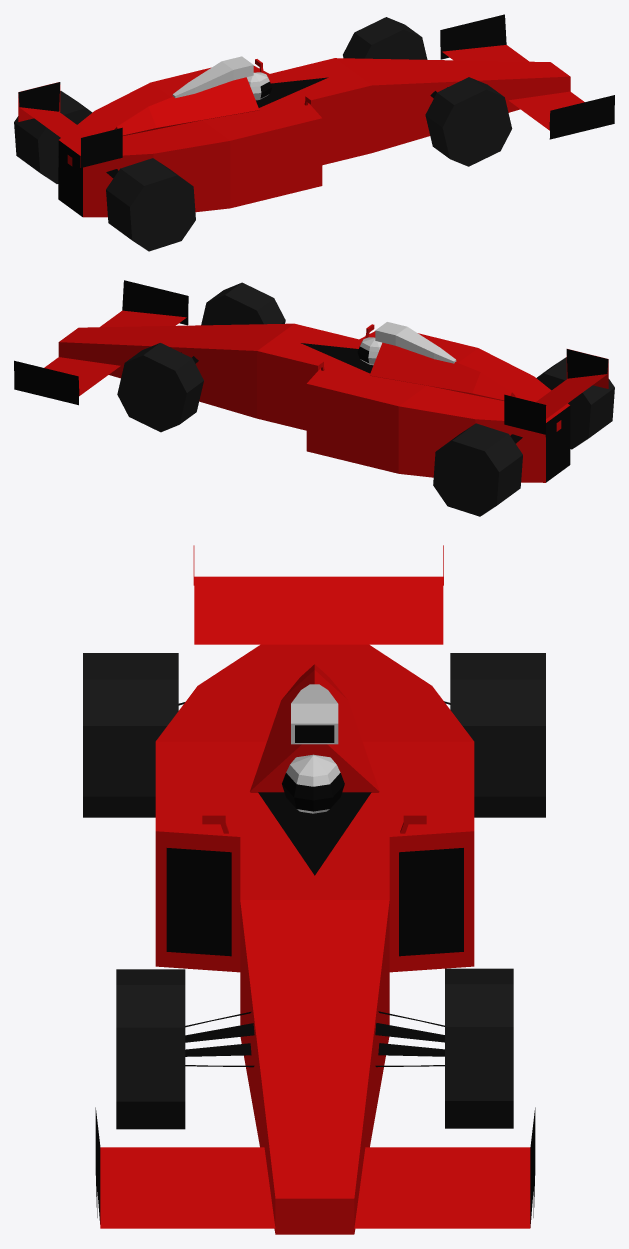
The model's file is f1_car1.obj.
3 renders of one model, top to bottom at view 1: azimuth 30°, elevation 25°; view 2: azimuth 150°, elevation 25°; view 3: azimuth 270°, elevation 25°, orthographic. The views are drawn at different scales.
Parts seen in each view (by area): view 1: f1_Red, f1_Black, Bone.005, Bone.001, Bone.002, Bone.006, f1_White, f1_Tires; view 2: f1_Red, f1_Black, Bone.002, Bone.006, Bone.001, Bone.005, f1_White; view 3: f1_Red, f1_Black, Bone.001, Bone.002, Bone.005, Bone.006, f1_White.
Boxes of the visible parts, box(x1,y1,x2,y2) form: f1_Red: box(18, 45, 584, 217); f1_Black: box(18, 14, 614, 216); Bone.005: box(425, 77, 512, 166); Bone.001: box(106, 158, 195, 251); Bone.002: box(14, 91, 92, 183); Bone.006: box(343, 17, 427, 59); f1_White: box(172, 56, 269, 100); f1_Tires: box(144, 186, 193, 240); f1_Red: box(44, 310, 608, 482); f1_Black: box(14, 280, 608, 482); Bone.002: box(433, 423, 522, 516); Bone.006: box(117, 343, 203, 432); Bone.001: box(536, 357, 614, 449); Bone.005: box(201, 282, 285, 325); f1_White: box(360, 322, 456, 365); f1_Red: box(100, 545, 530, 1234); f1_Black: box(95, 701, 535, 1227); Bone.001: box(83, 653, 178, 817); Bone.002: box(450, 653, 545, 817); Bone.005: box(116, 969, 185, 1129); Bone.006: box(445, 968, 513, 1128); f1_White: box(286, 684, 340, 813).
Bounding box in the file's own units: 15.76 × 3.3 × 6.2.
